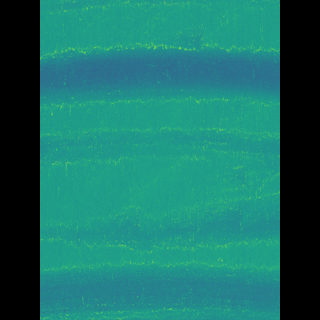Loch: (69, 42, 251, 114), (69, 193, 250, 254), (69, 260, 250, 320), (68, 130, 249, 167)
